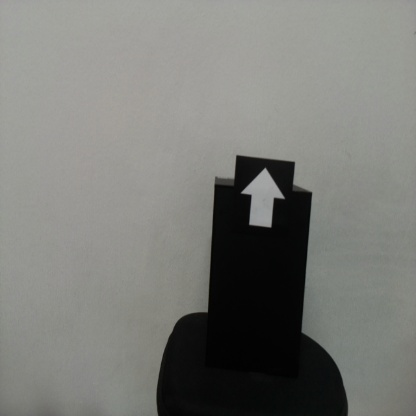id_1: (237, 160, 294, 246)
